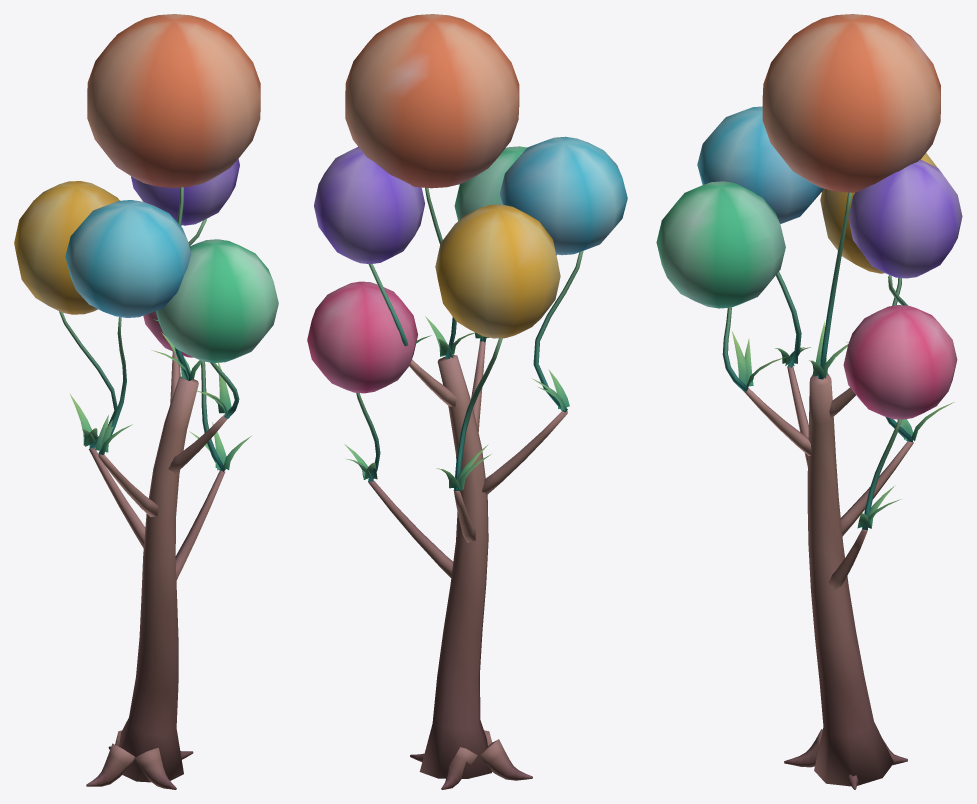
The model's file is verdant_tree_balloon_a.glb.
The picture shows the model from 3 angles, left to right: view 1: azimuth 30°, elevation 25°; view 2: azimuth 150°, elevation 25°; view 3: azimuth 270°, elevation 25°; orthographic projection. The views are drawn at different scales.
Visible parts, largest first — view 1: verdant_tree_balloon_a; view 2: verdant_tree_balloon_a; view 3: verdant_tree_balloon_a.
Boxes of the visible parts, x1,y1,x2,y2 form: verdant_tree_balloon_a: (14, 14, 278, 789); verdant_tree_balloon_a: (307, 14, 627, 789); verdant_tree_balloon_a: (656, 14, 962, 789).
Size of the model in its own units: 3.56 by 10.67 by 3.87.
